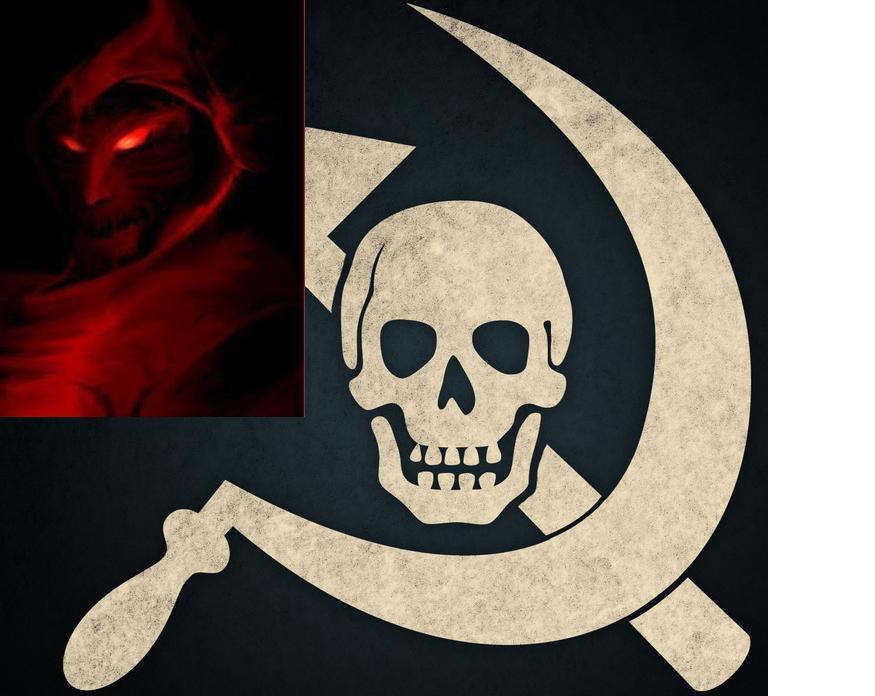foice: (64, 8, 750, 689)
